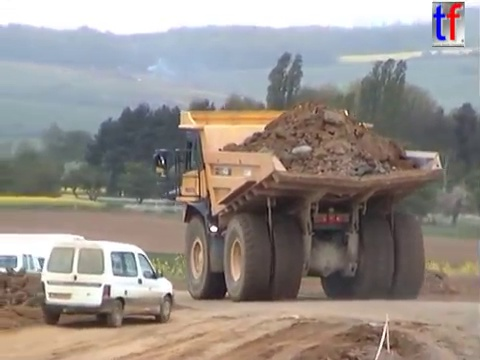truck: (150, 105, 445, 304)
